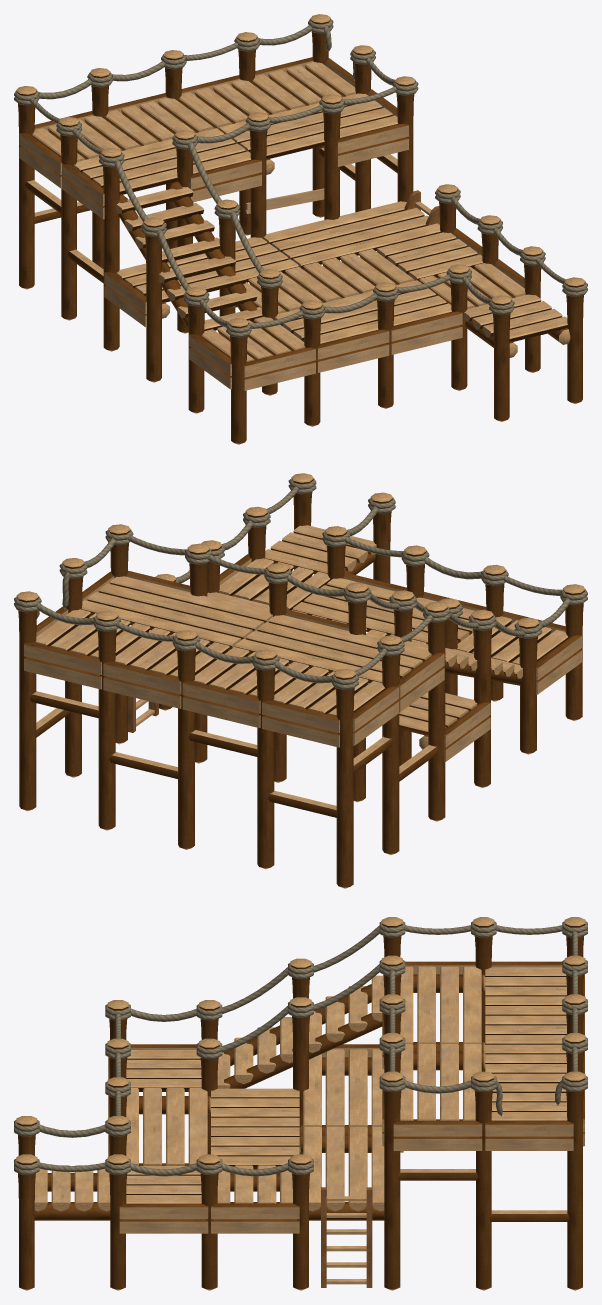
File: Docks.glb
3 renders of one model, top to bottom at view 1: azimuth 30°, elevation 25°; view 2: azimuth 150°, elevation 25°; view 3: azimuth 270°, elevation 25°, orthographic. The views are drawn at different scales.
Parts seen in each view (by area): view 1: Docks_Decking_Flat_1x1 (×10), Docks_Decking_Flat_1x2 (×5), Docks_Railing_Post_Top_Roped_1x1 (×23), Docks_Support_Post_Mid_1x1 (×21), Docks_Bumper_1_1x1 (×9), Docks_Decking_Steps_1x2, Docks_Railing_Posts_Steps_Roped_1x3 (×2), Docks_Railing_Board_1_1x1; view 2: Docks_Support_Post_Mid_1x1 (×22), Docks_Railing_Post_Top_Roped_1x1 (×22), Docks_Decking_Flat_1x2 (×4), Docks_Decking_Flat_1x1 (×7), Docks_Bumper_1_1x1 (×8), Docks_Support_Brace_1x1 (×6), Docks_Railing_Posts_Steps_Roped_1x3 (×2), Docks_Decking_Steps_1x2, Docks_Ladder_Middle_1x1; view 3: Docks_Decking_Flat_1x1 (×10), Docks_Decking_Flat_1x2 (×5), Docks_Railing_Post_Top_Roped_1x1 (×23), Docks_Support_Post_Mid_1x1 (×10), Docks_Bumper_1_1x1 (×6), Docks_Decking_Steps_1x2, Docks_Railing_Posts_Steps_Roped_1x3 (×2), Docks_Railing_Rope_Basic_1_1x1 (×5), Docks_Ladder_Middle_1x1, Docks_Support_Brace_1x1 (×2).
Boxes of the visible parts, x1,y1,x2,y2 form: Docks_Decking_Flat_1x1 (×10): (32, 62, 570, 361); Docks_Decking_Flat_1x2 (×5): (74, 93, 451, 343); Docks_Railing_Post_Top_Roped_1x1 (×23): (14, 14, 587, 366); Docks_Support_Post_Mid_1x1 (×21): (19, 122, 582, 444); Docks_Bumper_1_1x1 (×9): (19, 123, 462, 390); Docks_Decking_Steps_1x2: (116, 182, 262, 330); Docks_Railing_Posts_Steps_Roped_1x3 (×2): (114, 142, 263, 304); Docks_Railing_Board_1_1x1: (245, 188, 324, 213); Docks_Support_Post_Mid_1x1 (×22): (19, 542, 582, 888); Docks_Railing_Post_Top_Roped_1x1 (×22): (14, 473, 587, 721); Docks_Decking_Flat_1x2 (×4): (81, 576, 477, 749); Docks_Decking_Flat_1x1 (×7): (35, 525, 568, 716); Docks_Bumper_1_1x1 (×8): (24, 635, 581, 761); Docks_Support_Brace_1x1 (×6): (29, 691, 438, 817); Docks_Railing_Posts_Steps_Roped_1x3 (×2): (369, 590, 525, 703); Docks_Decking_Steps_1x2: (367, 634, 522, 685); Docks_Ladder_Middle_1x1: (128, 696, 158, 732); Docks_Decking_Flat_1x1 (×10): (34, 967, 567, 1220); Docks_Decking_Flat_1x2 (×5): (126, 966, 485, 1220); Docks_Railing_Post_Top_Roped_1x1 (×23): (14, 917, 587, 1206); Docks_Support_Post_Mid_1x1 (×10): (19, 1122, 582, 1290); Docks_Bumper_1_1x1 (×6): (119, 961, 573, 1233); Docks_Decking_Steps_1x2: (217, 975, 384, 1088); Docks_Railing_Posts_Steps_Roped_1x3 (×2): (221, 925, 380, 1090); Docks_Railing_Rope_Basic_1_1x1 (×5): (39, 1008, 471, 1176); Docks_Ladder_Middle_1x1: (321, 1205, 372, 1287); Docks_Support_Brace_1x1 (×2): (398, 1169, 569, 1221).
Size of the model in its own units: 428 by 262 by 628.
34 materials, 33 textured.
